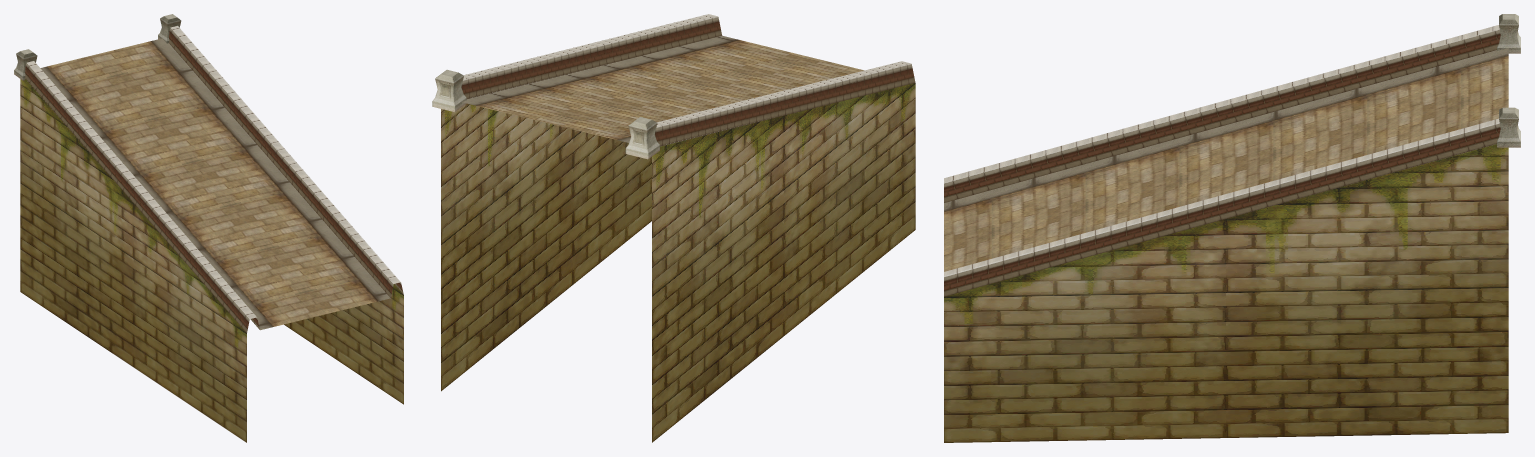
File: obj_masaslope05.glb
3 views of the same model, side by side, from view 1: azimuth 30°, elevation 25°; view 2: azimuth 150°, elevation 25°; view 3: azimuth 270°, elevation 25° (orthographic). The views are drawn at different scales.
Parts seen in each view (by area): view 1: part_0; view 2: part_0; view 3: part_0.
Part boxes in pixels (box(x1,y1,x2,y2)): part_0: box(14, 14, 403, 442); part_0: box(432, 14, 915, 442); part_0: box(944, 14, 1520, 442).
Bounding box in the file's own units: 13.3 × 17.42 × 28.61.
Materials: 4 (4 with a texture image).
